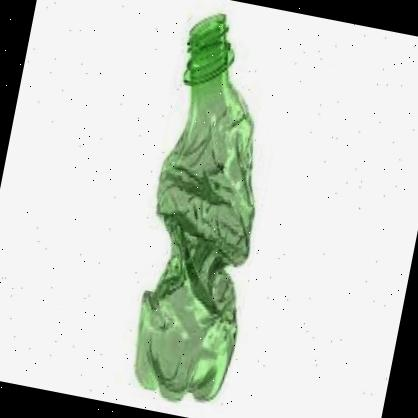bottle: (112, 1, 304, 411)
